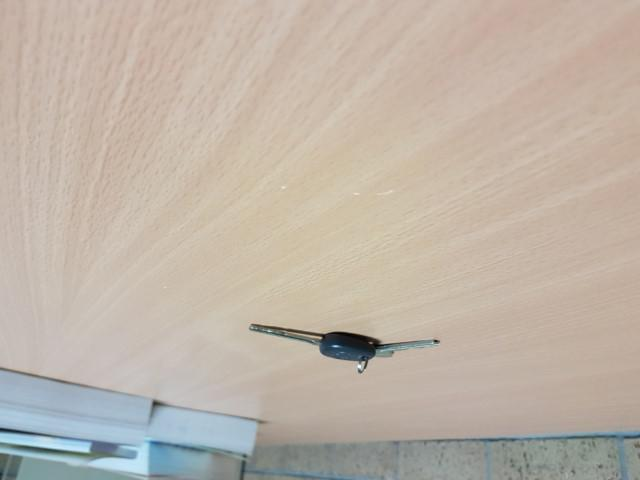key: (248, 321, 374, 362)
